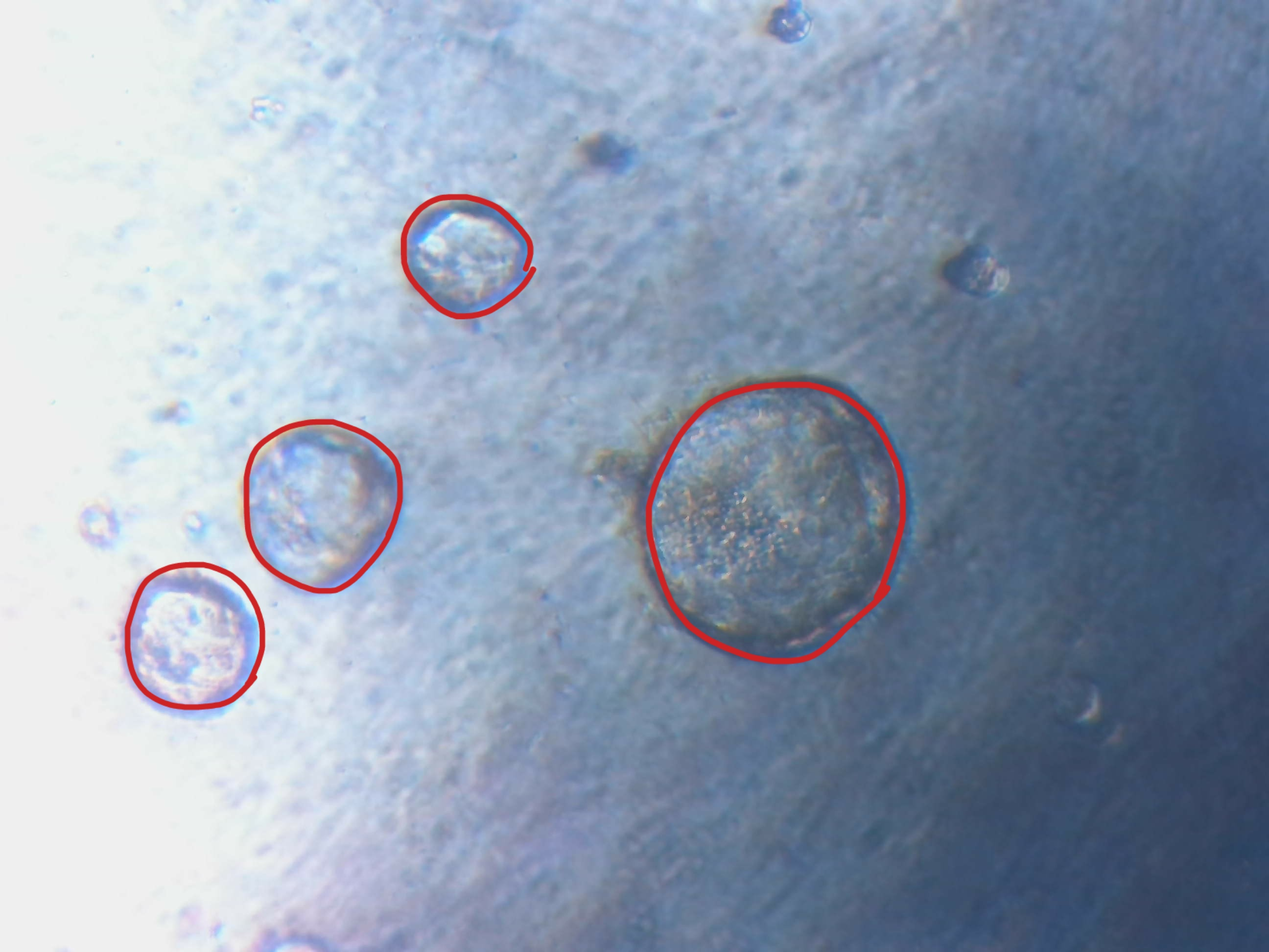organoid: (930, 230, 1018, 347), (790, 479, 879, 574), (532, 472, 585, 530), (529, 652, 569, 695), (731, 476, 774, 516), (541, 325, 577, 361)
